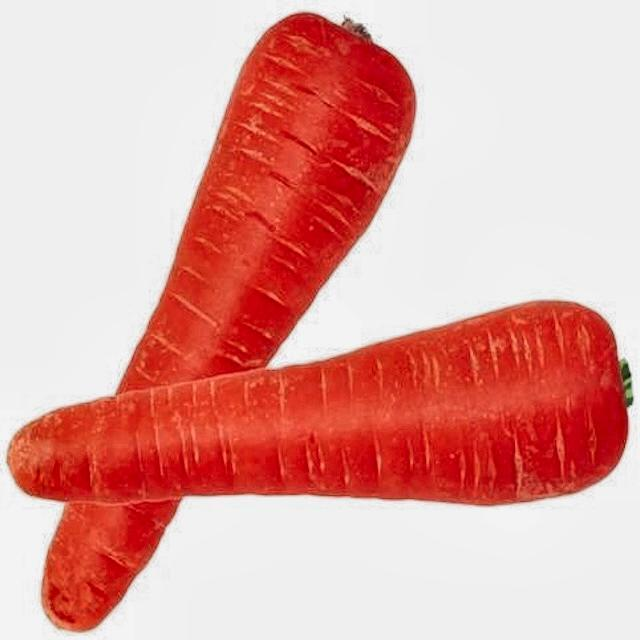carrot: (42, 14, 415, 635), (9, 301, 628, 504)
